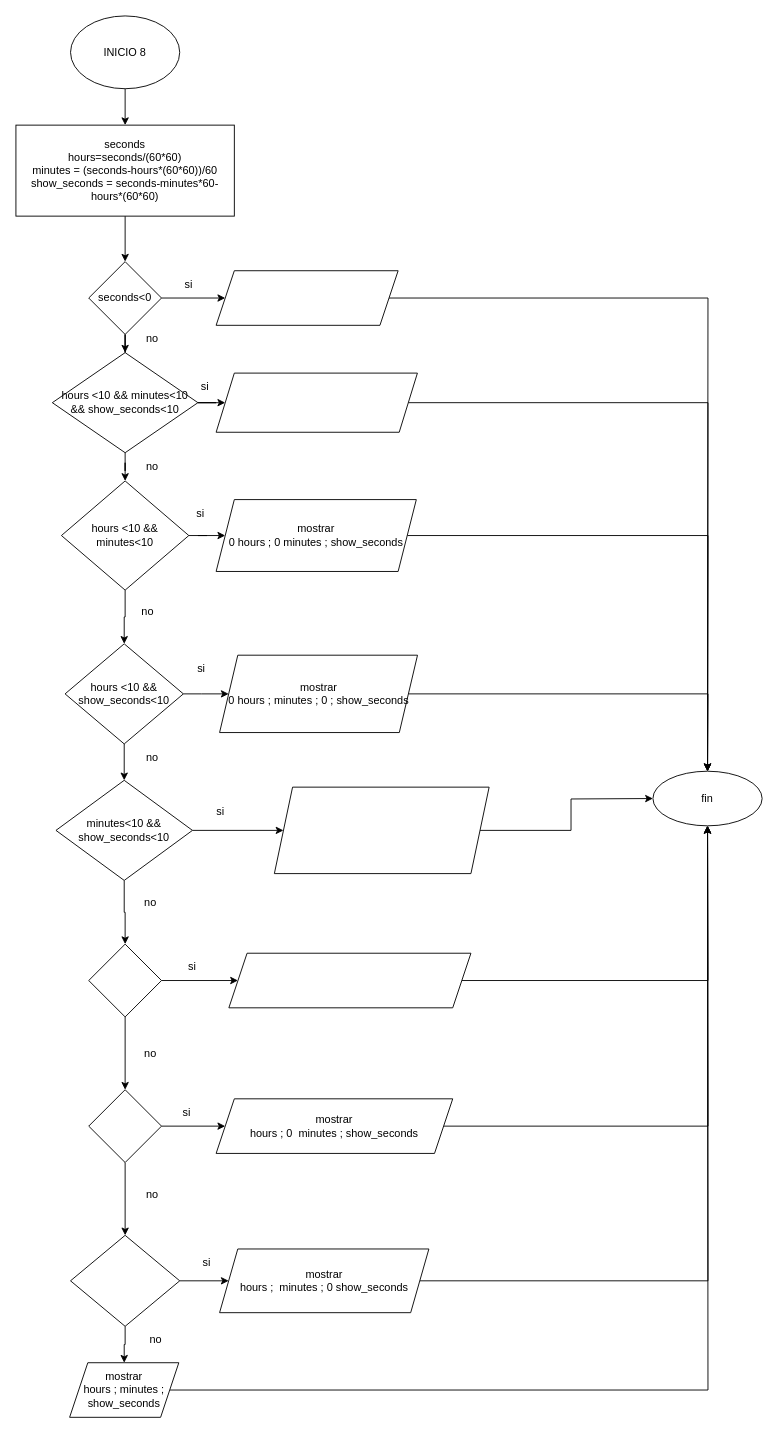
This 778x1433 diagram has some shape labels left out. Each missing label, with the centre of its shape:
"hours <10" belongs at point 125,980.
"minutes<10" belongs at point 125,1126.
"mostar 0 hours ; 0 minutes ; 0 show_seconds" belongs at point 316,402.
"mostrar 0 hours; minutes ; show_seconds" belongs at point 349,980.
"mostrar Error: Input seconds cannot be negative." belongs at point 306,297.
"mostrar hours ; 0 minutes ; 0 show _seconds" belongs at point 381,830.
"show_seconds<10" belongs at point 125,1280.
